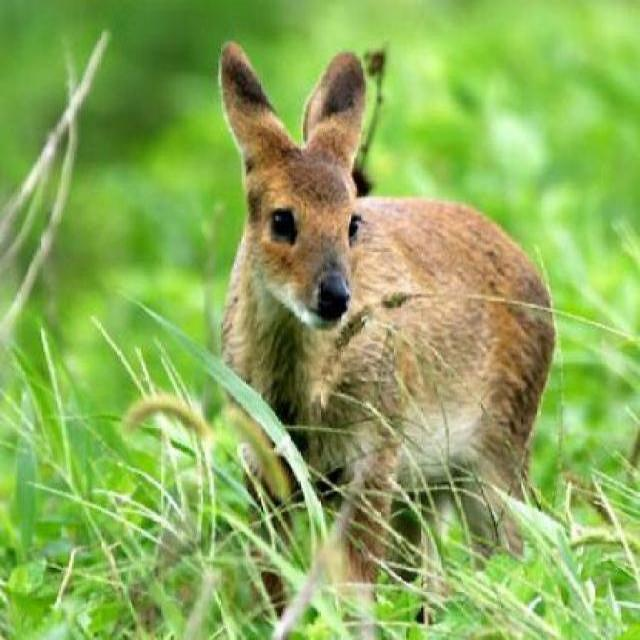deer: (211, 39, 560, 573)
